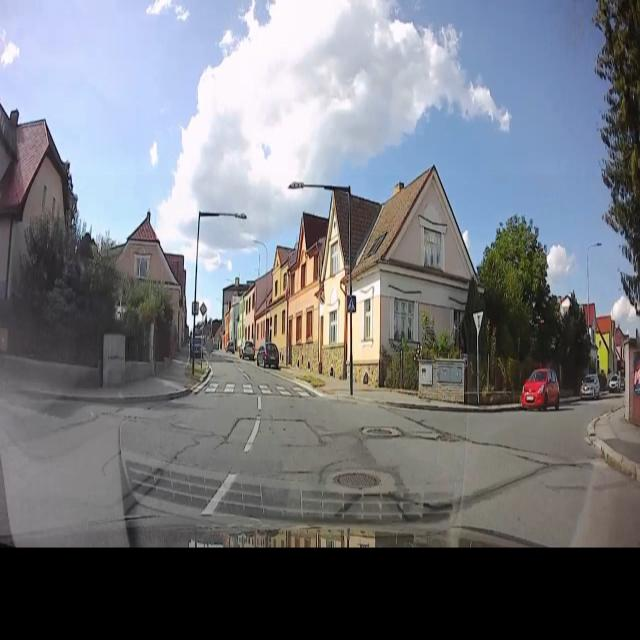Pedestrian crosswalk: (198, 374, 320, 404), (345, 290, 357, 313)
